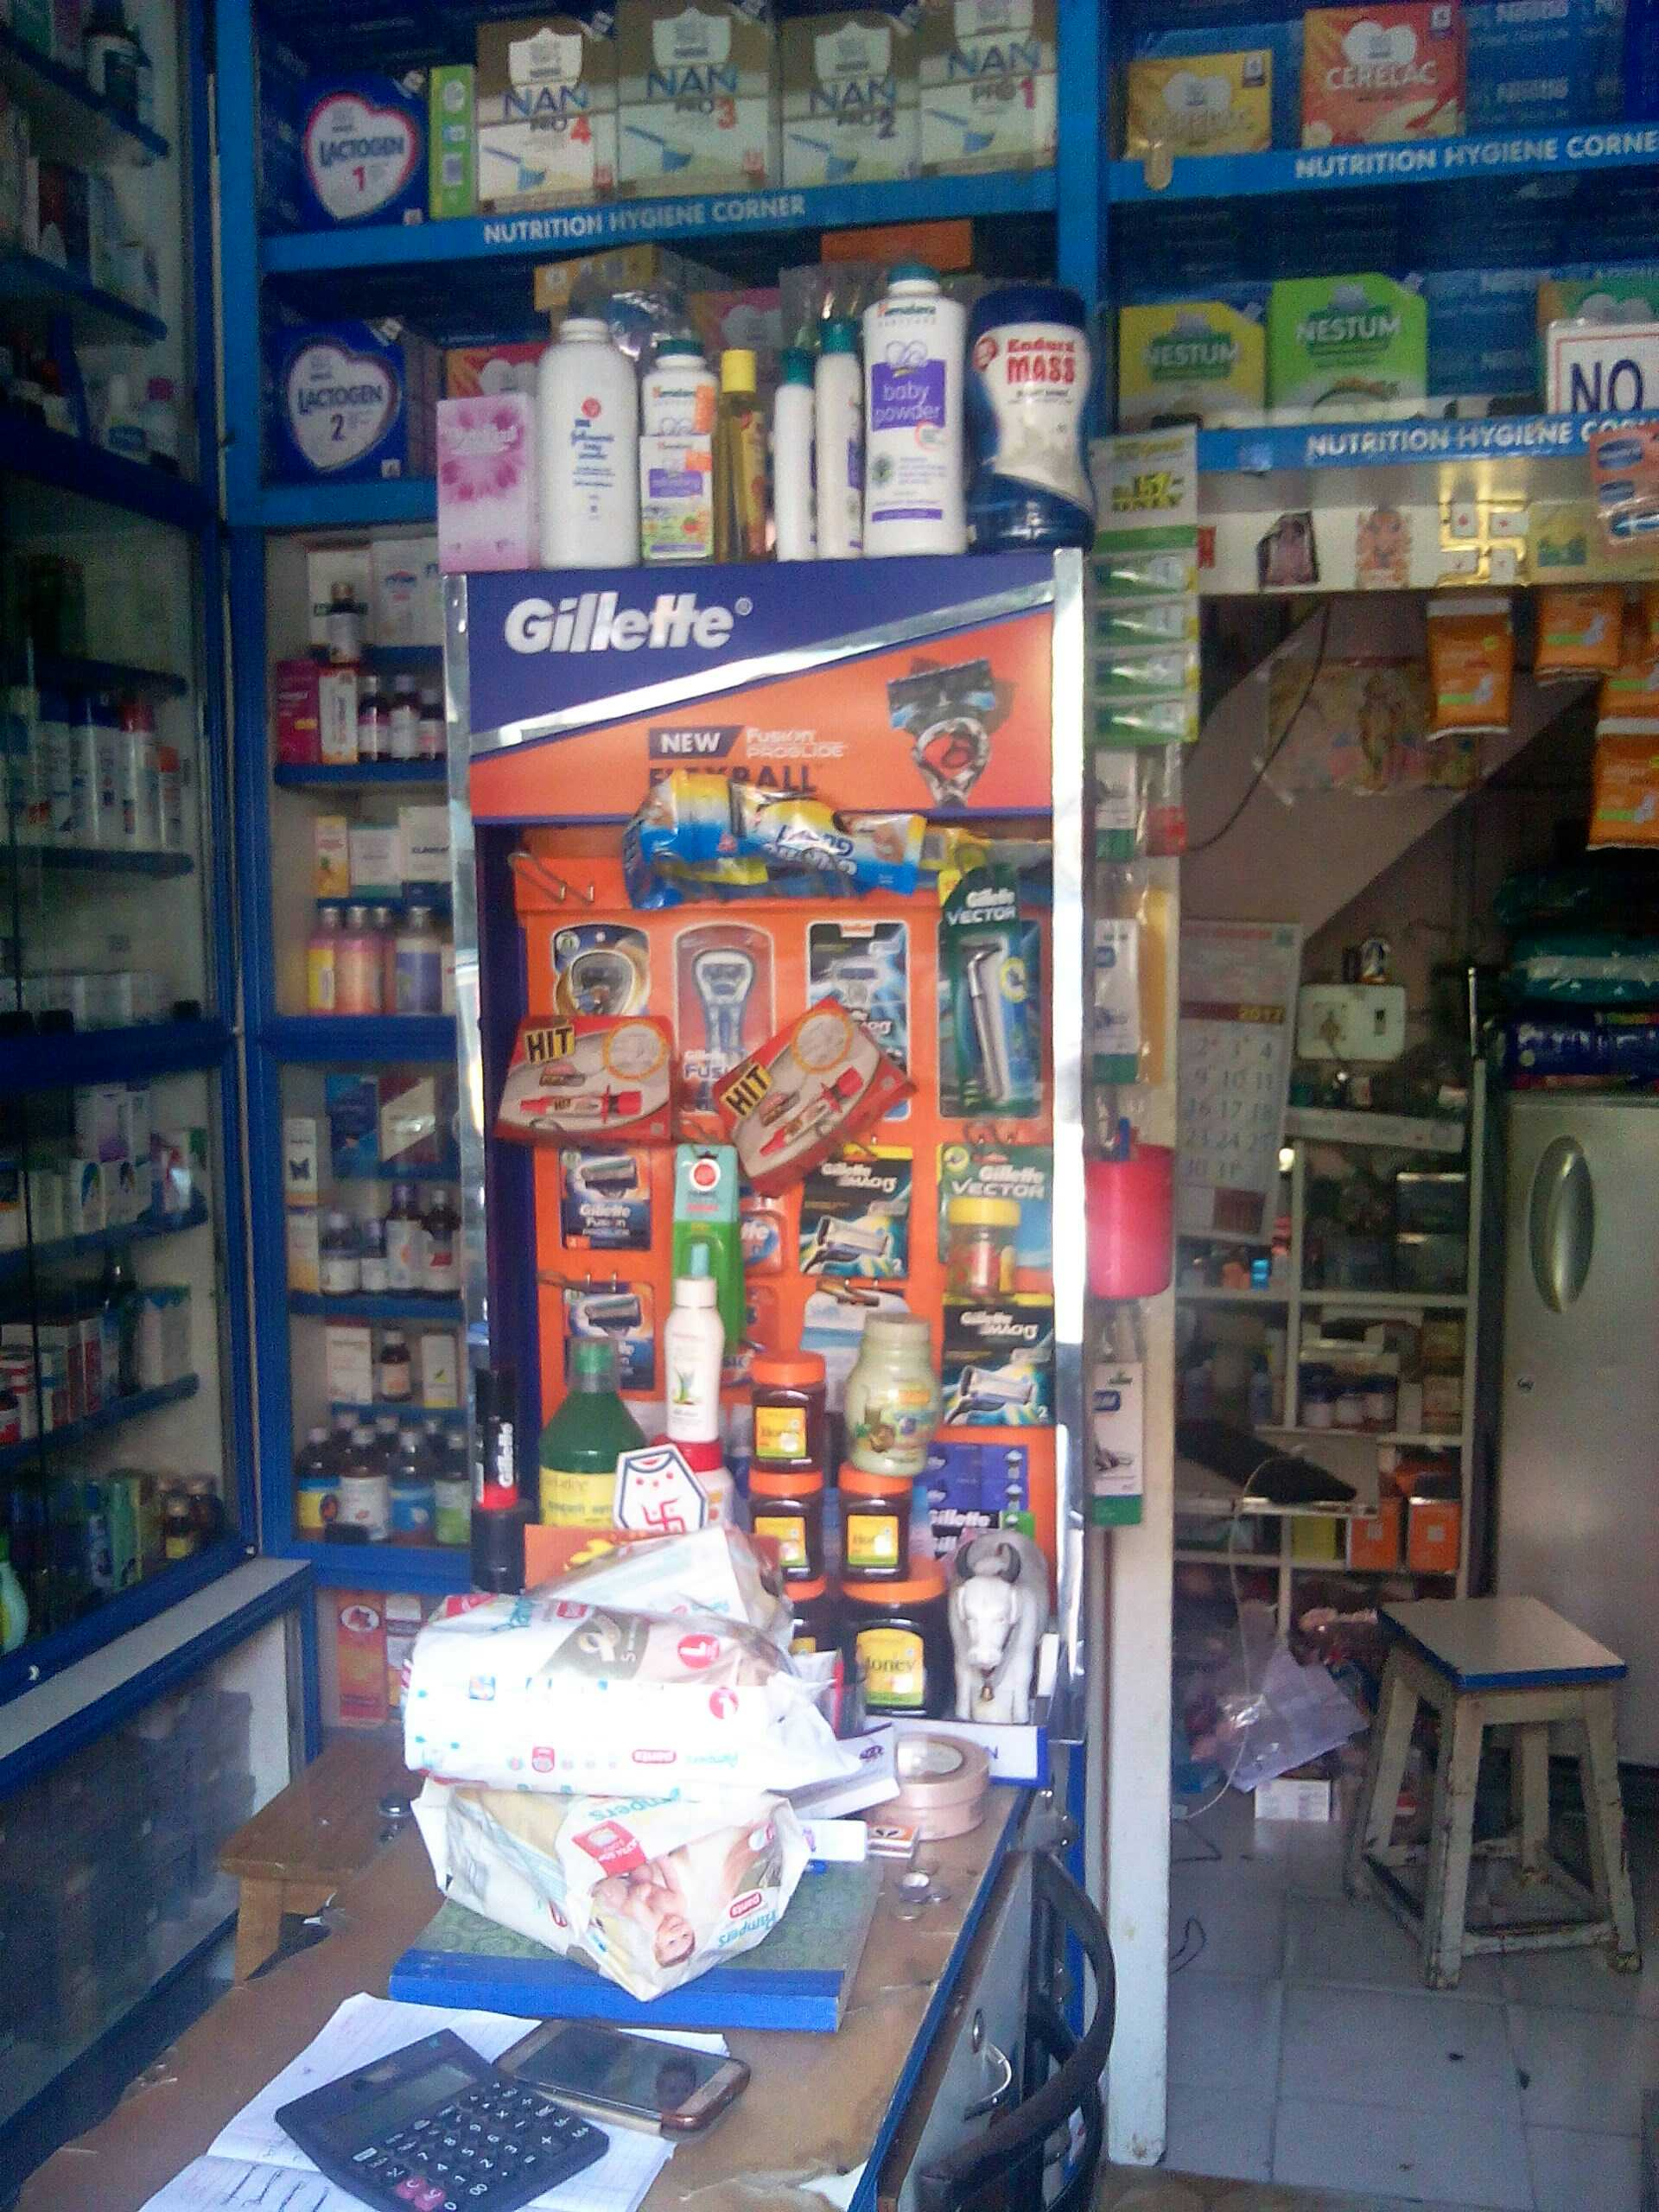gillette: (584, 749, 918, 907), (936, 853, 1051, 1115), (941, 1144, 1068, 1292), (802, 1148, 910, 1294), (545, 1139, 657, 1261), (950, 1298, 1047, 1425)
